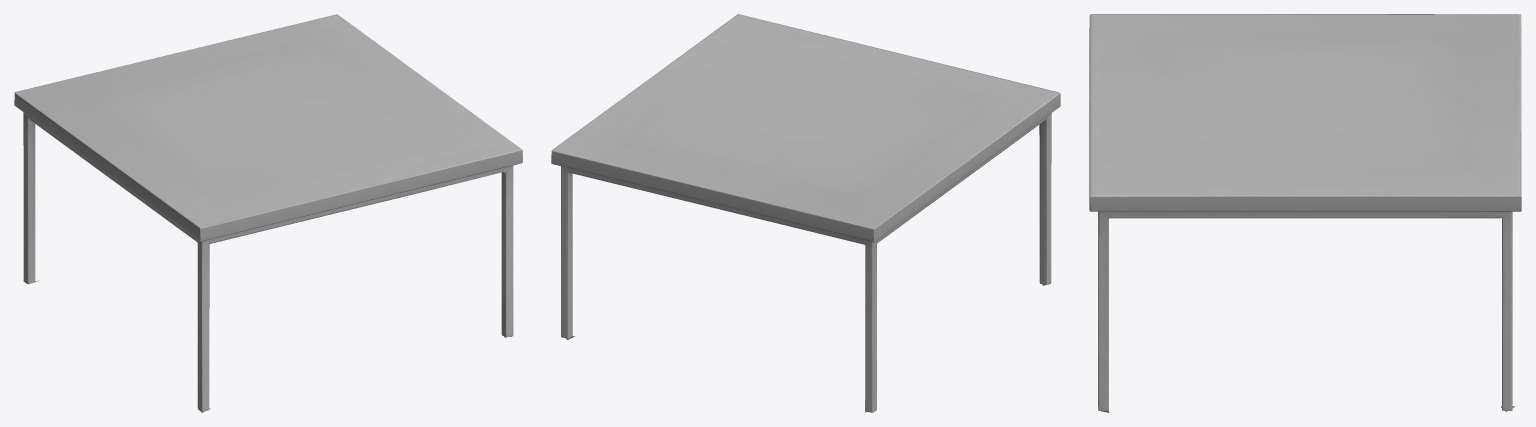
File: SM_Sofa02.fbx
3 renders of one model, left to right at view 1: azimuth 30°, elevation 25°; view 2: azimuth 150°, elevation 25°; view 3: azimuth 270°, elevation 25°, orthographic. The views are drawn at different scales.
Parts seen in each view (by area): view 1: SM_Sofa02_LOD0; view 2: SM_Sofa02_LOD0; view 3: SM_Sofa02_LOD0.
Boxes of the visible parts, x1,y1,x2,y2 form: SM_Sofa02_LOD0: [14, 14, 522, 412]; SM_Sofa02_LOD0: [551, 14, 1060, 412]; SM_Sofa02_LOD0: [1089, 14, 1521, 412].
Size of the model in its own units: 72.94 by 72.97 by 40.94.
